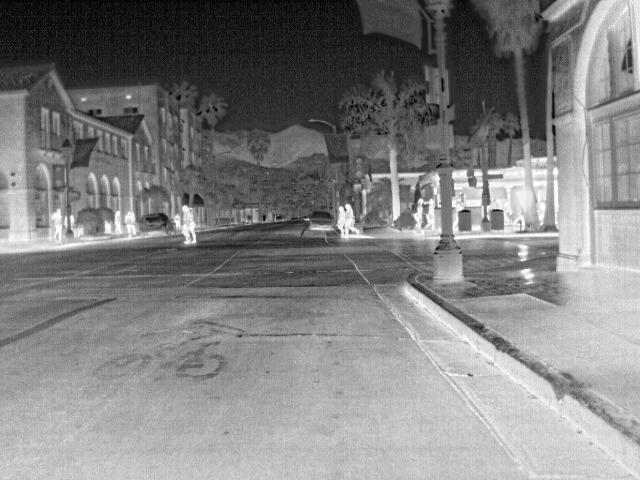car: (136, 212, 178, 238), (305, 211, 337, 231)
person: (180, 204, 198, 246), (344, 204, 361, 238), (422, 198, 437, 232), (411, 196, 425, 232), (51, 209, 63, 246), (335, 206, 347, 242), (122, 211, 136, 237), (113, 210, 125, 236)
